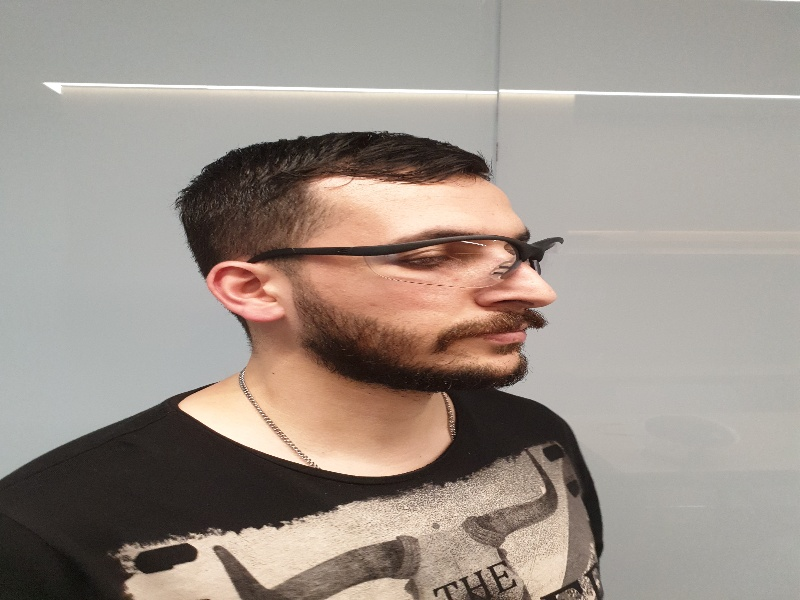Gozluk: (252, 237, 559, 293)
